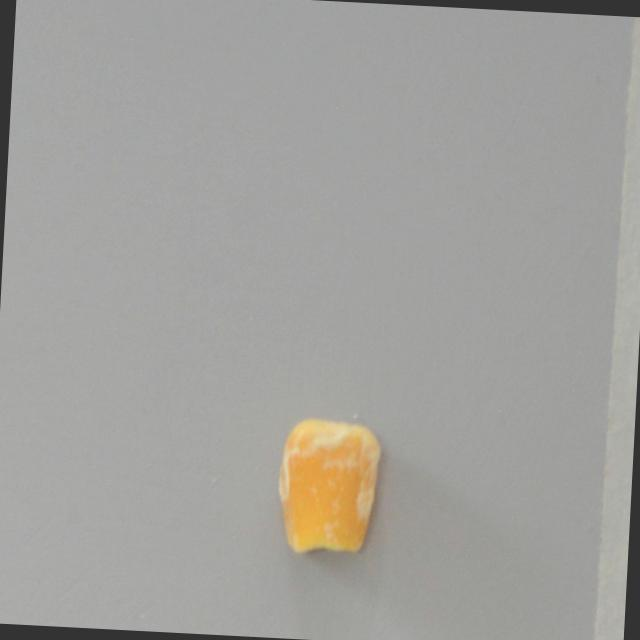dañado: (262, 410, 385, 565)
